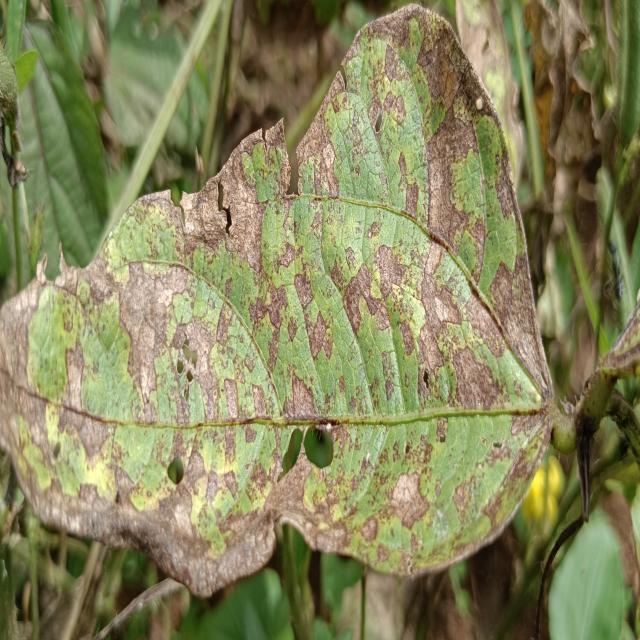Black gram_leaf spot: (0, 19, 558, 582)
